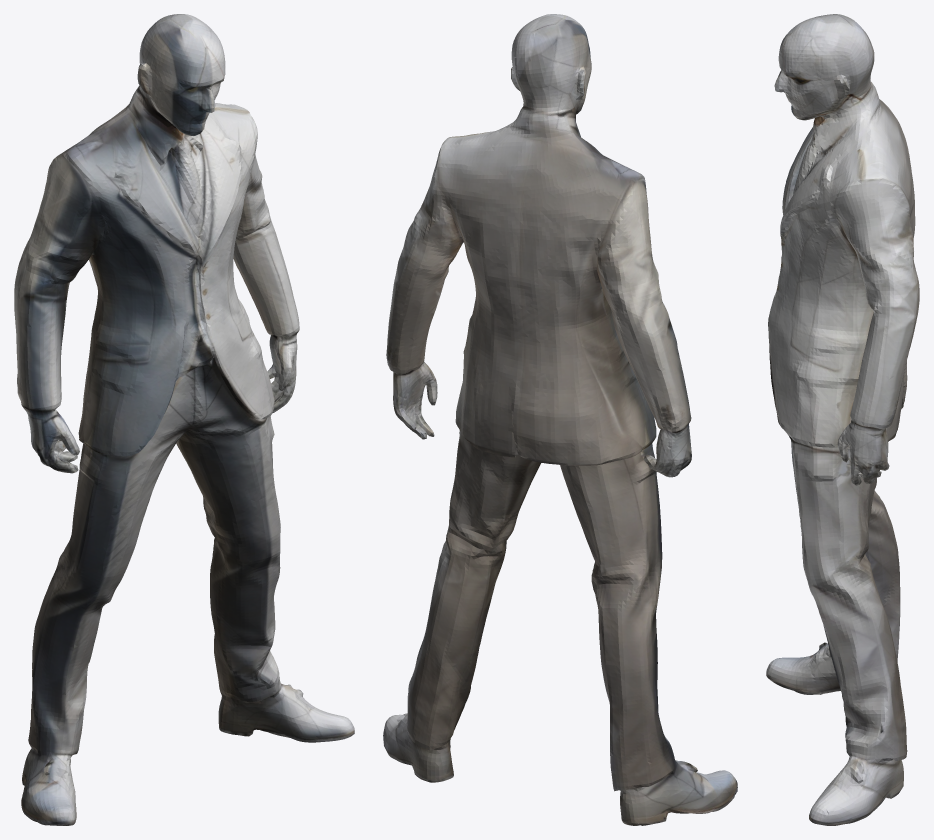
Rendered from MenSuit.glb.
3 views of the same model, side by side, from view 1: azimuth 30°, elevation 25°; view 2: azimuth 150°, elevation 25°; view 3: azimuth 270°, elevation 25° (orthographic). The views are drawn at different scales.
Bounding box in the file's own units: 0.9151 × 2 × 0.3789.
Materials: 1 (1 with a texture image).
